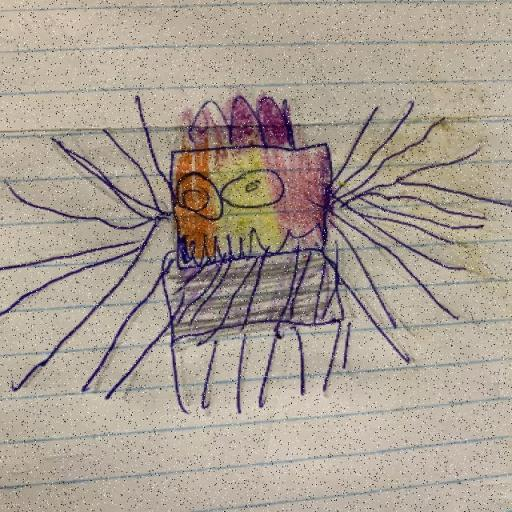person: (7, 88, 498, 420)
